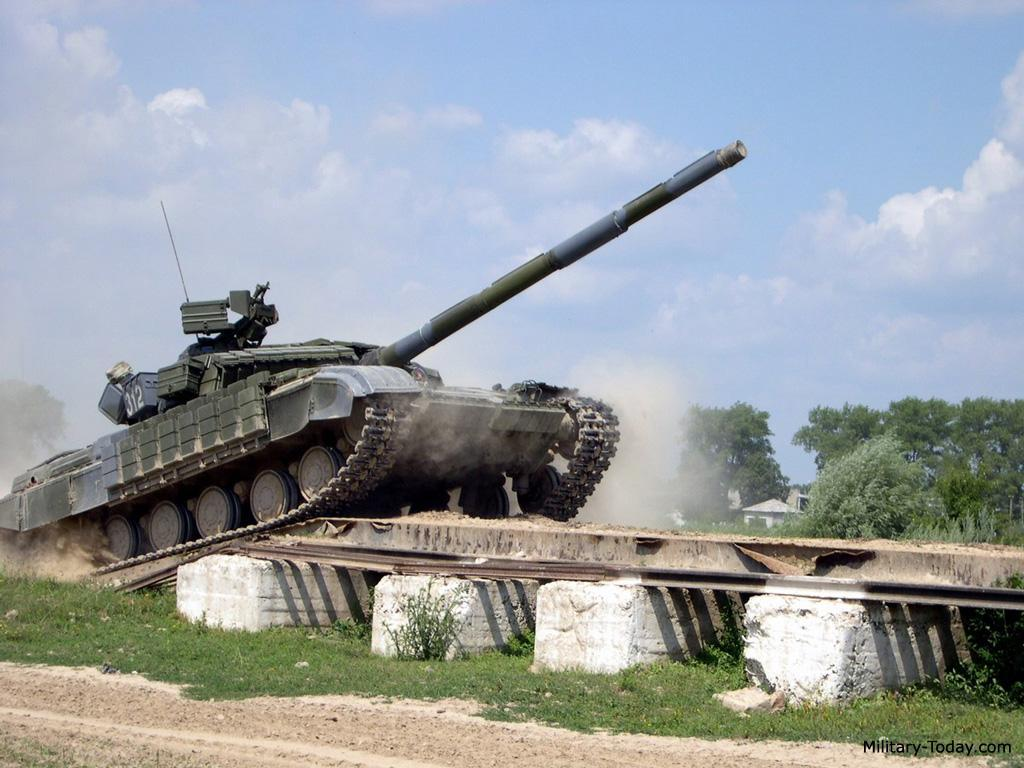tank: (0, 142, 747, 598)
